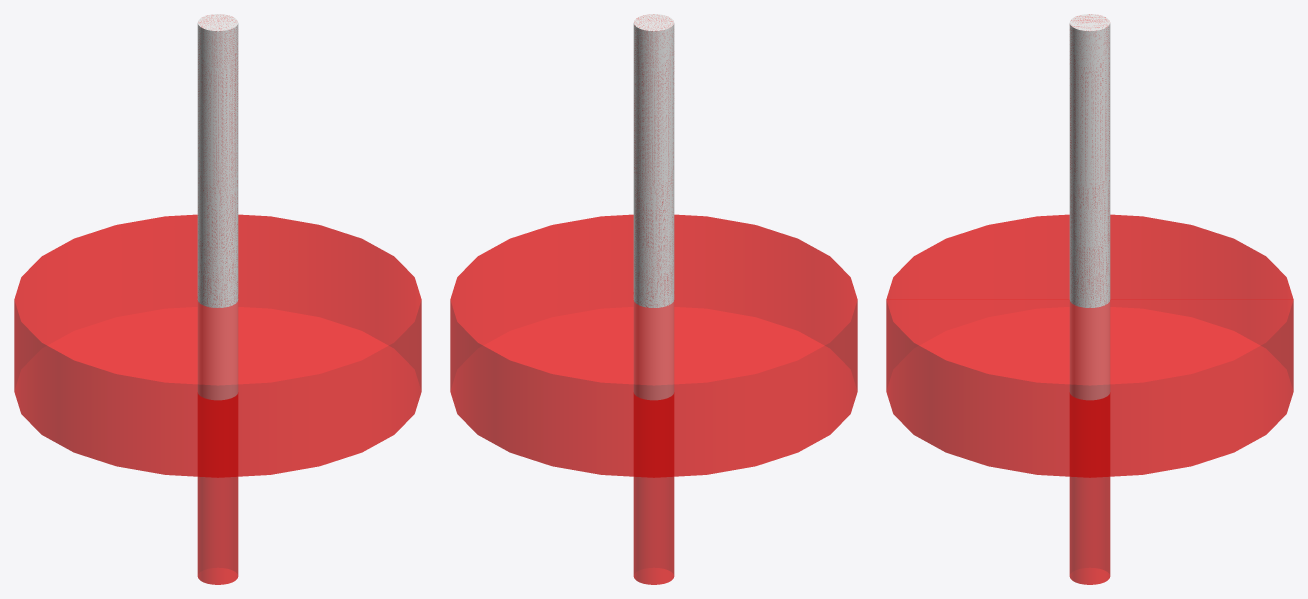
Rendered from waypoint2.dae.
3 views of the same model, side by side, from view 1: azimuth 30°, elevation 25°; view 2: azimuth 150°, elevation 25°; view 3: azimuth 270°, elevation 25° (orthographic).
Parts seen in each view (by area): view 1: SketchUp (×4); view 2: SketchUp (×4); view 3: SketchUp (×4).
Boxes of the visible parts, x1,y1,x2,y2 form: SketchUp (×4): [14, 14, 421, 584]; SketchUp (×4): [450, 14, 857, 584]; SketchUp (×4): [886, 14, 1293, 584].
Bounding box in the file's own units: 787 × 787 × 1181.
